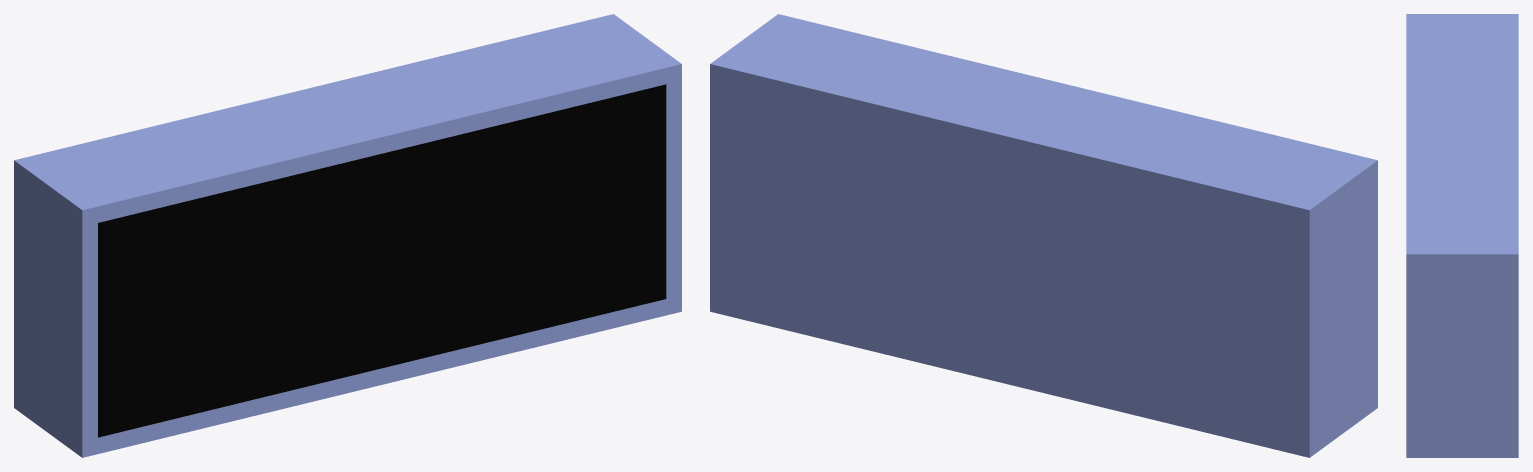
File: rfs_lcd_large_lod2.fbx
The picture shows the model from 3 angles, left to right: view 1: azimuth 30°, elevation 25°; view 2: azimuth 150°, elevation 25°; view 3: azimuth 270°, elevation 25°; orthographic projection. The views are drawn at different scales.
Visible parts, largest first — view 1: obj_interactive_textsign_large_lod2; view 2: obj_interactive_textsign_large_lod2; view 3: obj_interactive_textsign_large_lod2.
Part boxes in pixels (left/top/right/bottom): obj_interactive_textsign_large_lod2: left=14, top=14, right=681, bottom=457; obj_interactive_textsign_large_lod2: left=710, top=14, right=1377, bottom=457; obj_interactive_textsign_large_lod2: left=1406, top=14, right=1518, bottom=457.
Size of the model in its own units: 5.07 by 2 by 1.
